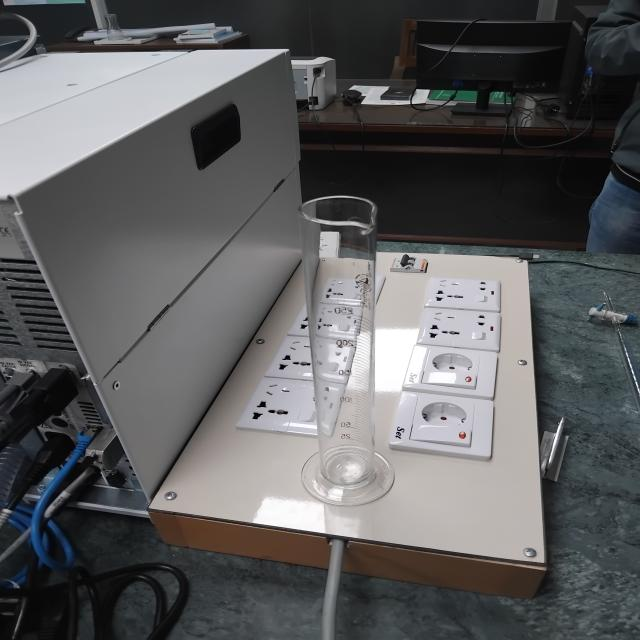Measuring_Cylinder: (259, 154, 440, 521)
